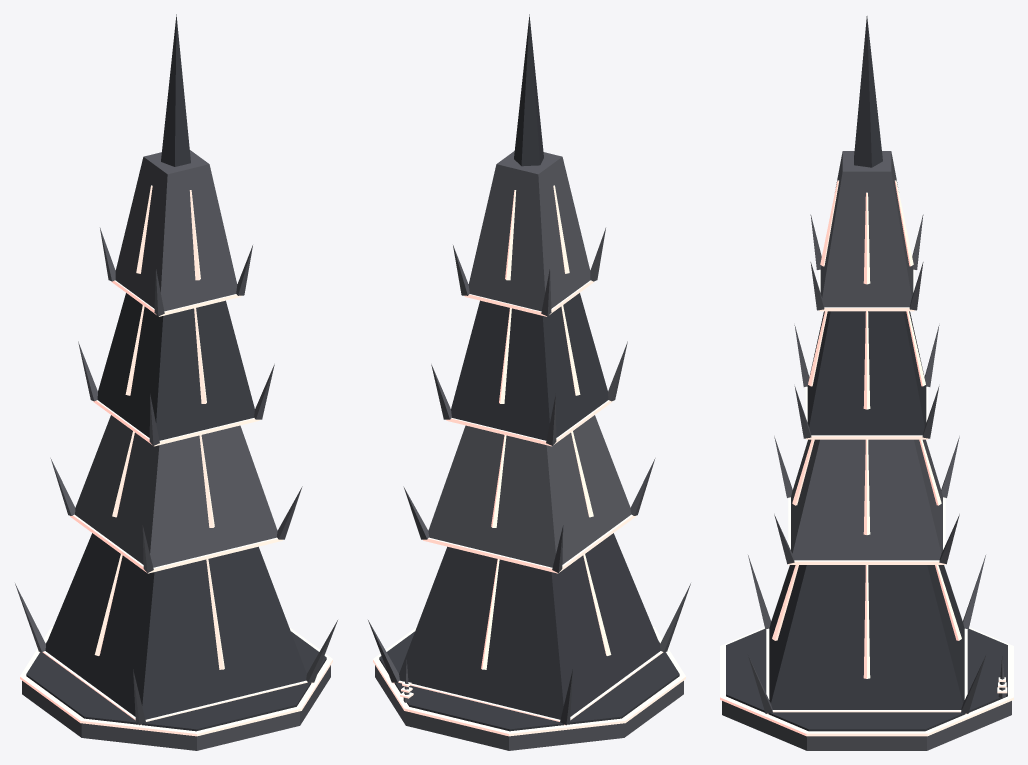
File: zone_high_5_t3.glb
3 views of the same model, side by side, from view 1: azimuth 30°, elevation 25°; view 2: azimuth 150°, elevation 25°; view 3: azimuth 270°, elevation 25° (orthographic).
Parts seen in each view (by area): view 1: zone_high_5_t3; view 2: zone_high_5_t3; view 3: zone_high_5_t3.
Part boxes in pixels (<box>): zone_high_5_t3: <box>15,14,337,750</box>; zone_high_5_t3: <box>368,14,690,750</box>; zone_high_5_t3: <box>720,16,1013,750</box>.
Size of the model in its own units: 27.35 by 69.43 by 27.35.
